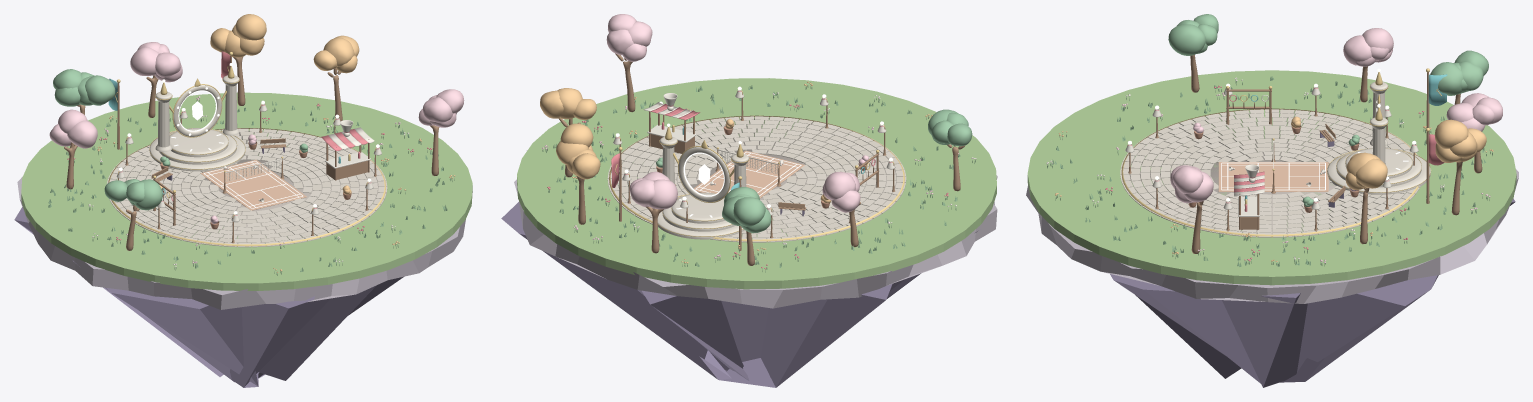
File: lobby.glb
3 renders of one model, left to right at view 1: azimuth 30°, elevation 25°; view 2: azimuth 150°, elevation 25°; view 3: azimuth 270°, elevation 25°, orthographic. The views are drawn at different scales.
Parts seen in each view (by area): view 1: IslandTop, Tiles, Underside, IslandRim, Props_Blossom, Props_Stone, Props_Wood, Props_Leaf, Props_Autumn, CourtSurface, Props_Cream, Tufts (+6 smaller); view 2: IslandTop, Underside, Tiles, IslandRim, Props_Blossom, Props_Stone, Props_Wood, Props_Autumn, Props_Leaf, CourtSurface, Tufts, Props_Cream (+5 smaller); view 3: IslandTop, Tiles, Underside, IslandRim, Props_Blossom, Props_Wood, Props_Leaf, Props_Stone, Props_Autumn, CourtSurface, Props_Cream, Tufts (+6 smaller).
Boxes of the visible parts, bbox=[...] form: IslandTop: bbox=[21, 92, 472, 290]; Tiles: bbox=[107, 128, 387, 247]; Underside: bbox=[14, 207, 403, 387]; IslandRim: bbox=[17, 176, 465, 309]; Props_Blossom: bbox=[49, 42, 464, 275]; Props_Stone: bbox=[149, 75, 245, 171]; Props_Wood: bbox=[64, 55, 439, 250]; Props_Leaf: bbox=[53, 69, 307, 210]; Props_Autumn: bbox=[159, 14, 359, 194]; CourtSurface: bbox=[200, 159, 306, 210]; Props_Cream: bbox=[116, 103, 381, 221]; Tufts: bbox=[48, 101, 447, 271]; IslandTop: bbox=[517, 78, 996, 289]; Underside: bbox=[501, 202, 980, 387]; Tiles: bbox=[607, 116, 906, 242]; IslandRim: bbox=[514, 175, 997, 308]; Props_Blossom: bbox=[542, 14, 976, 272]; Props_Stone: bbox=[657, 136, 748, 239]; Props_Wood: bbox=[559, 53, 964, 265]; Props_Autumn: bbox=[540, 88, 831, 203]; Props_Leaf: bbox=[656, 109, 972, 233]; CourtSurface: bbox=[693, 150, 804, 198]; Tufts: bbox=[553, 85, 960, 267]; Props_Cream: bbox=[613, 90, 895, 215]; IslandTop: bbox=[1027, 70, 1516, 285]; Tiles: bbox=[1120, 109, 1420, 237]; Underside: bbox=[1110, 198, 1515, 387]; IslandRim: bbox=[1026, 169, 1518, 303]; Props_Blossom: bbox=[1046, 28, 1502, 266]; Props_Wood: bbox=[1128, 55, 1482, 253]; Props_Leaf: bbox=[1168, 14, 1488, 206]; Props_Stone: bbox=[1327, 82, 1430, 194]; Props_Autumn: bbox=[1291, 116, 1486, 189]; CourtSurface: bbox=[1218, 162, 1328, 191]; Props_Cream: bbox=[1125, 87, 1418, 216]; Tufts: bbox=[1052, 76, 1485, 266].
Bounding box in the file's own units: 32.87 × 21.7 × 32.26.
